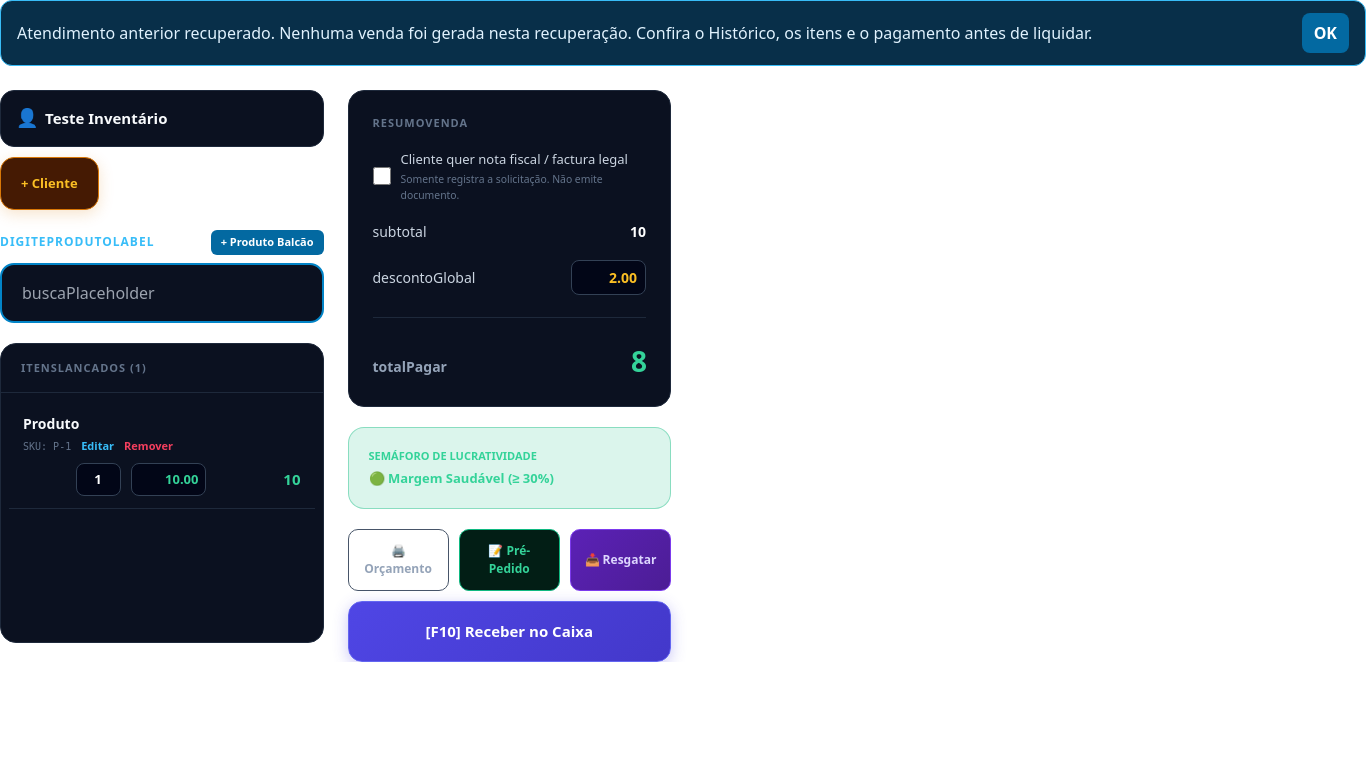
Test case: sem servidor resgate mantém rascunho e não confirma operação
Step 1. Click the button "📥 Resgatar" → (620, 560), box [570,529,671,591]
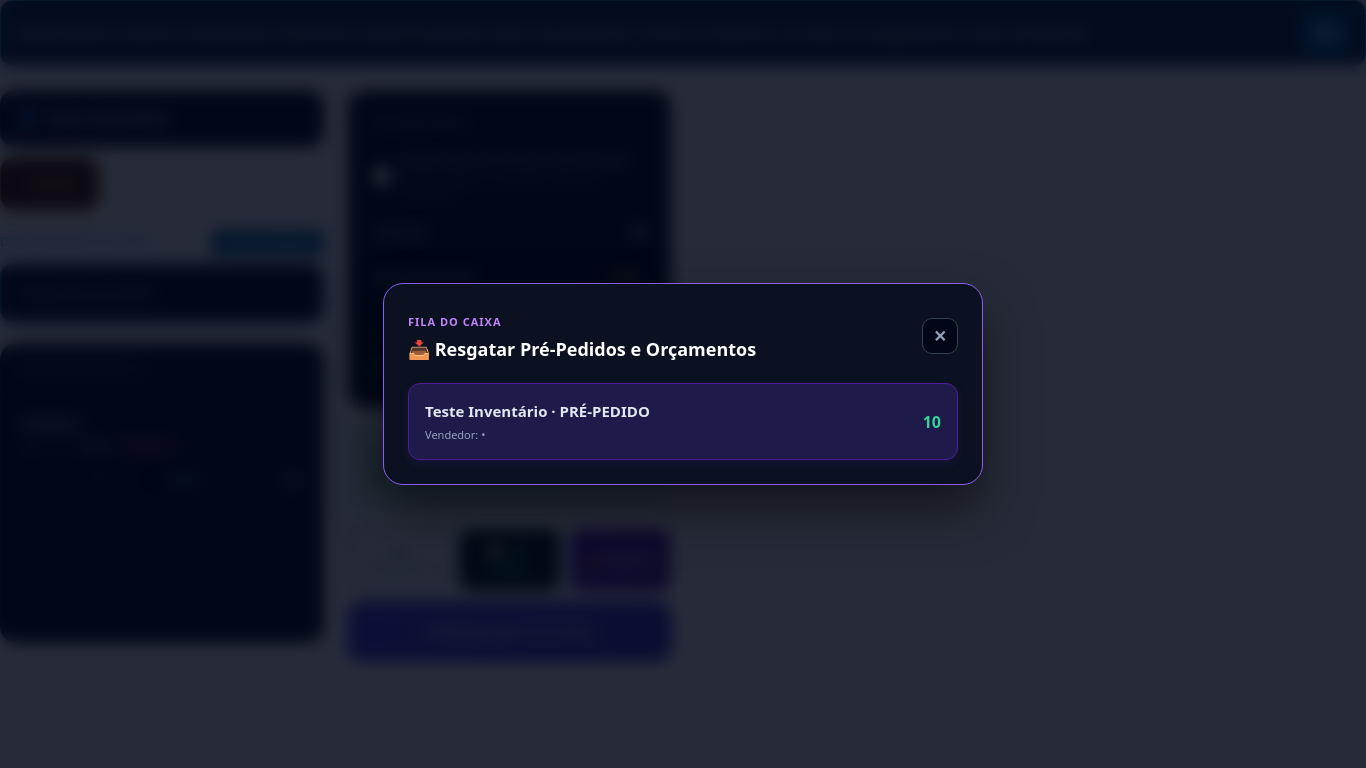
Step 2. Click the text "Teste Inventário · PRÉ-PEDIDO" → (537, 411), box [425,400,650,422]
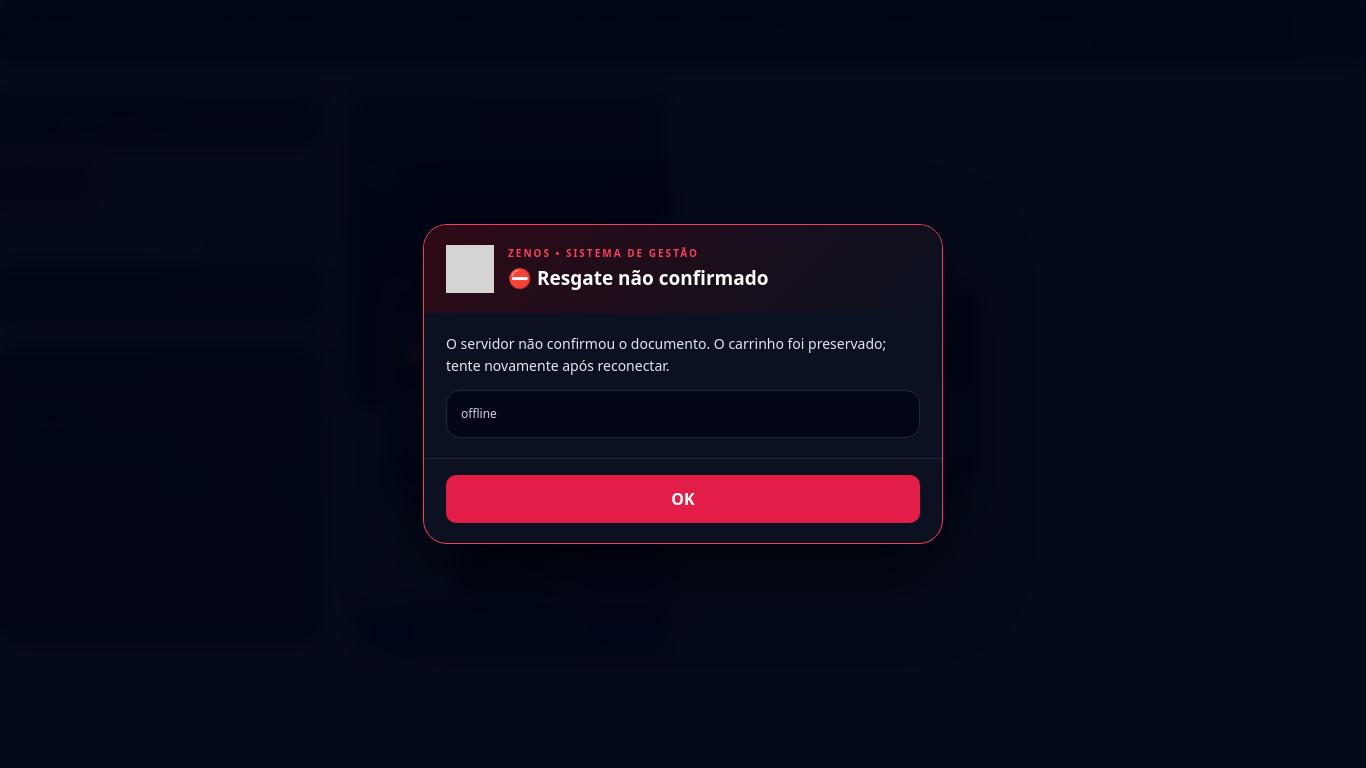
Expected: the text "⛔ Resgate não confirmado" is shown, [508,265,768,291]
